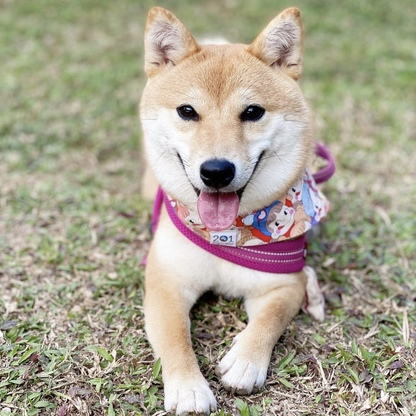shiba: (129, 1, 336, 416)
